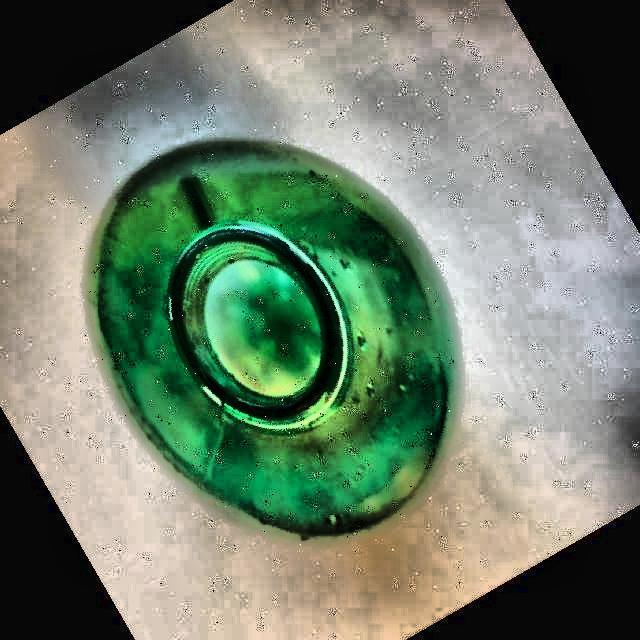plastic: (89, 141, 456, 534)
